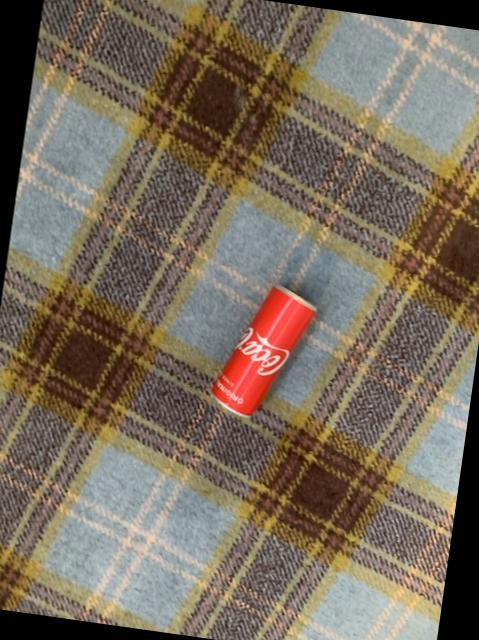metal: (211, 285, 314, 415)
